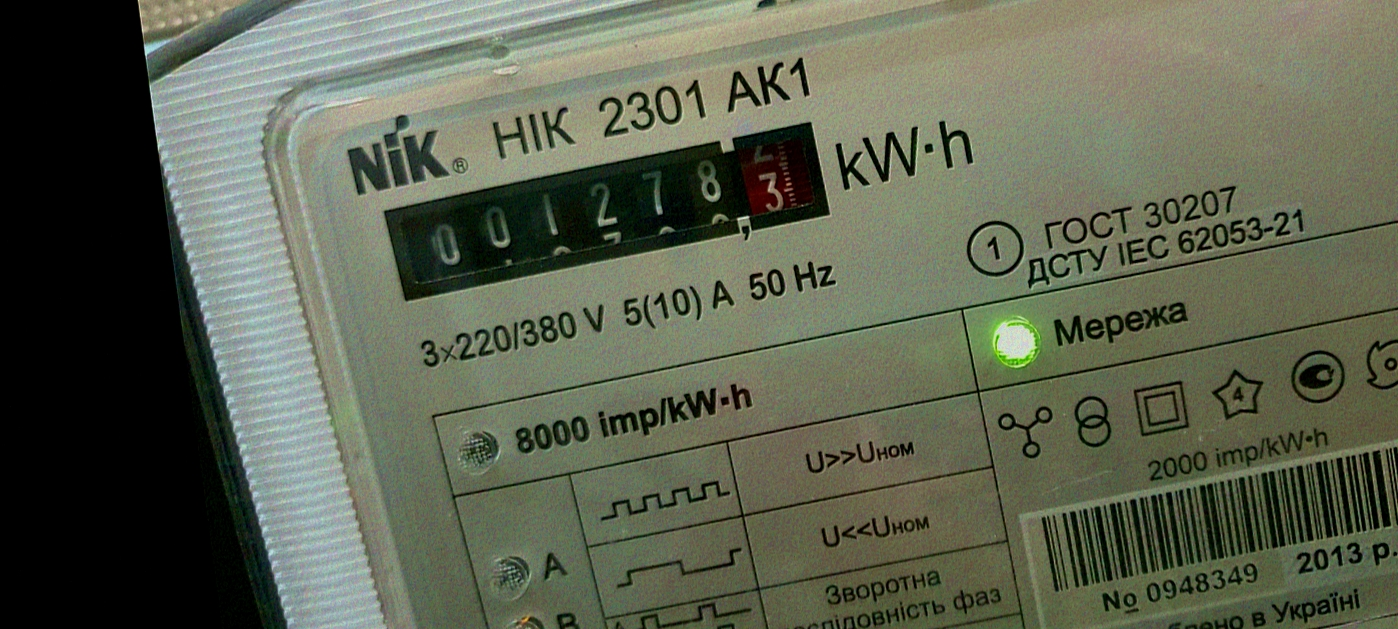0: (430, 219, 464, 270), (481, 203, 512, 253)
1: (538, 190, 562, 240)
2: (586, 180, 619, 230), (747, 143, 776, 167)
3: (754, 167, 786, 214)
7: (639, 168, 668, 220)
8: (692, 157, 724, 207)
screen: (359, 110, 851, 315)
